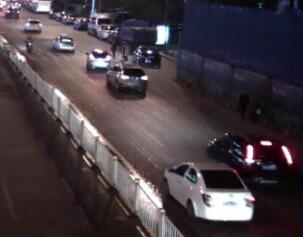car: (202, 125, 297, 194), (160, 158, 257, 225), (102, 58, 151, 96), (132, 42, 164, 71), (85, 46, 114, 73), (52, 32, 76, 53), (89, 13, 108, 34), (97, 23, 119, 41), (22, 18, 43, 34), (4, 4, 24, 19)
